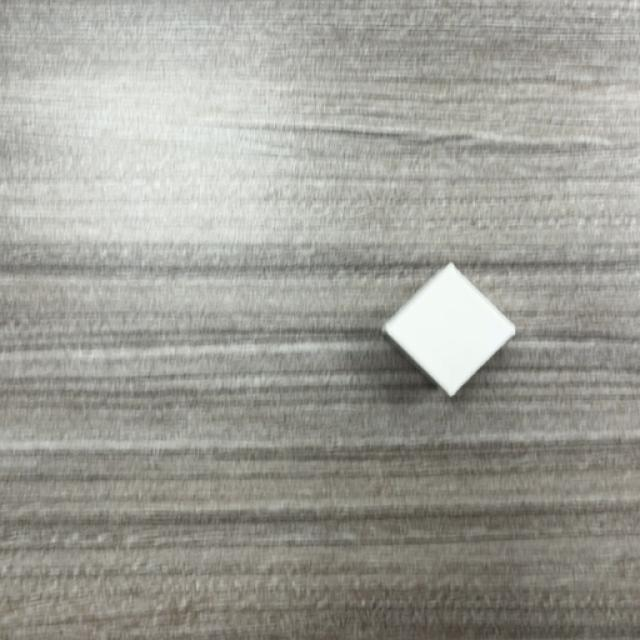Blanco: (381, 264, 516, 399)
